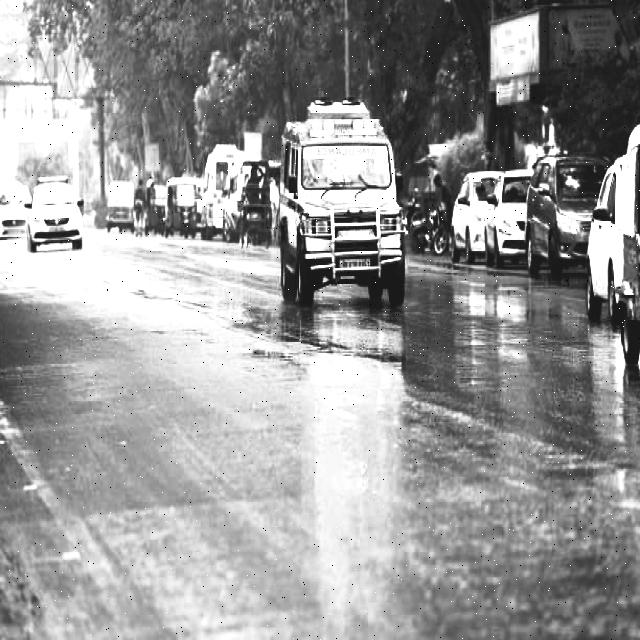Ambulance: (277, 96, 416, 340), (302, 142, 392, 167), (305, 113, 382, 141)
